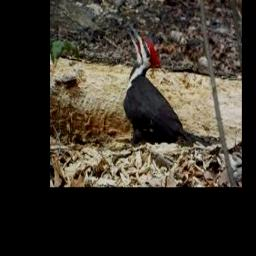Woodpecker: (123, 25, 212, 147)
